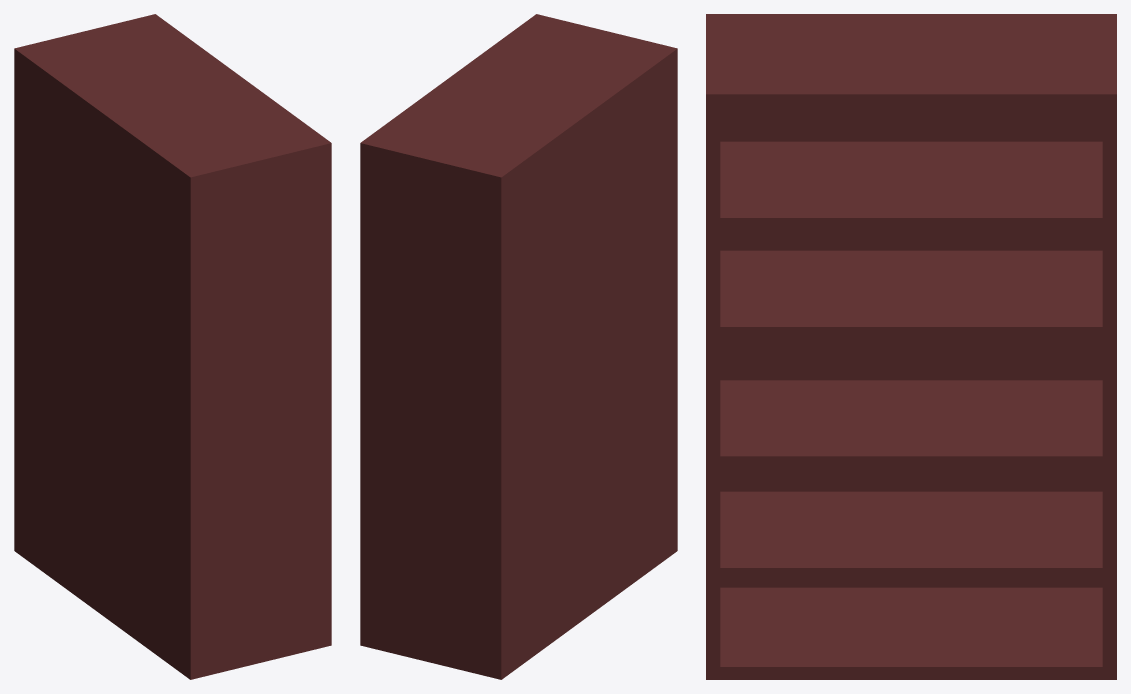
Rendered from Emty shelf.fbx.
The picture shows the model from 3 angles, left to right: view 1: azimuth 30°, elevation 25°; view 2: azimuth 150°, elevation 25°; view 3: azimuth 270°, elevation 25°; orthographic projection. The views are drawn at different scales.
Visible parts, largest first — view 1: Cube; view 2: Cube; view 3: Cube, Cube_4, Cube_2, Cube_1, Cube_3.
Boxes of the visible parts, x1,y1,x2,y2 form: Cube: (14, 14, 331, 679); Cube: (360, 14, 677, 679); Cube: (706, 14, 1116, 679); Cube_4: (720, 491, 1102, 580); Cube_2: (720, 250, 1102, 339); Cube_1: (720, 141, 1102, 230); Cube_3: (720, 380, 1102, 468).
Size of the model in its own units: 107 by 363 by 231.
